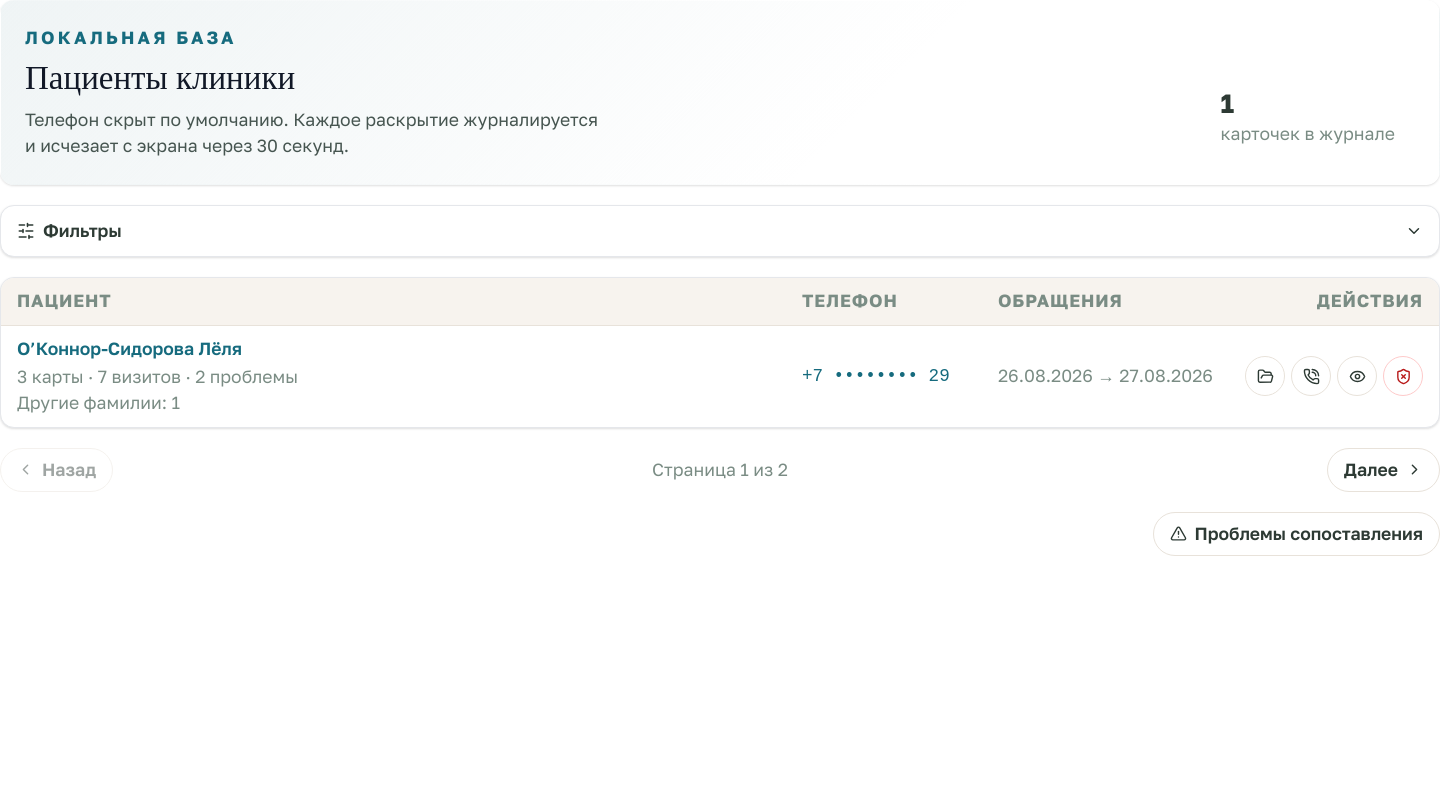
Test: Patients admin view › clears detail disclosure when the already-selected patient is selected again
Check: the link "О’Коннор-Сидорова Лёля" is shown, box [17, 338, 242, 359]
Click the button named "Открыть карточку О’Коннор-Сидорова Лёля": (1265, 376) [1245, 356, 1285, 396]
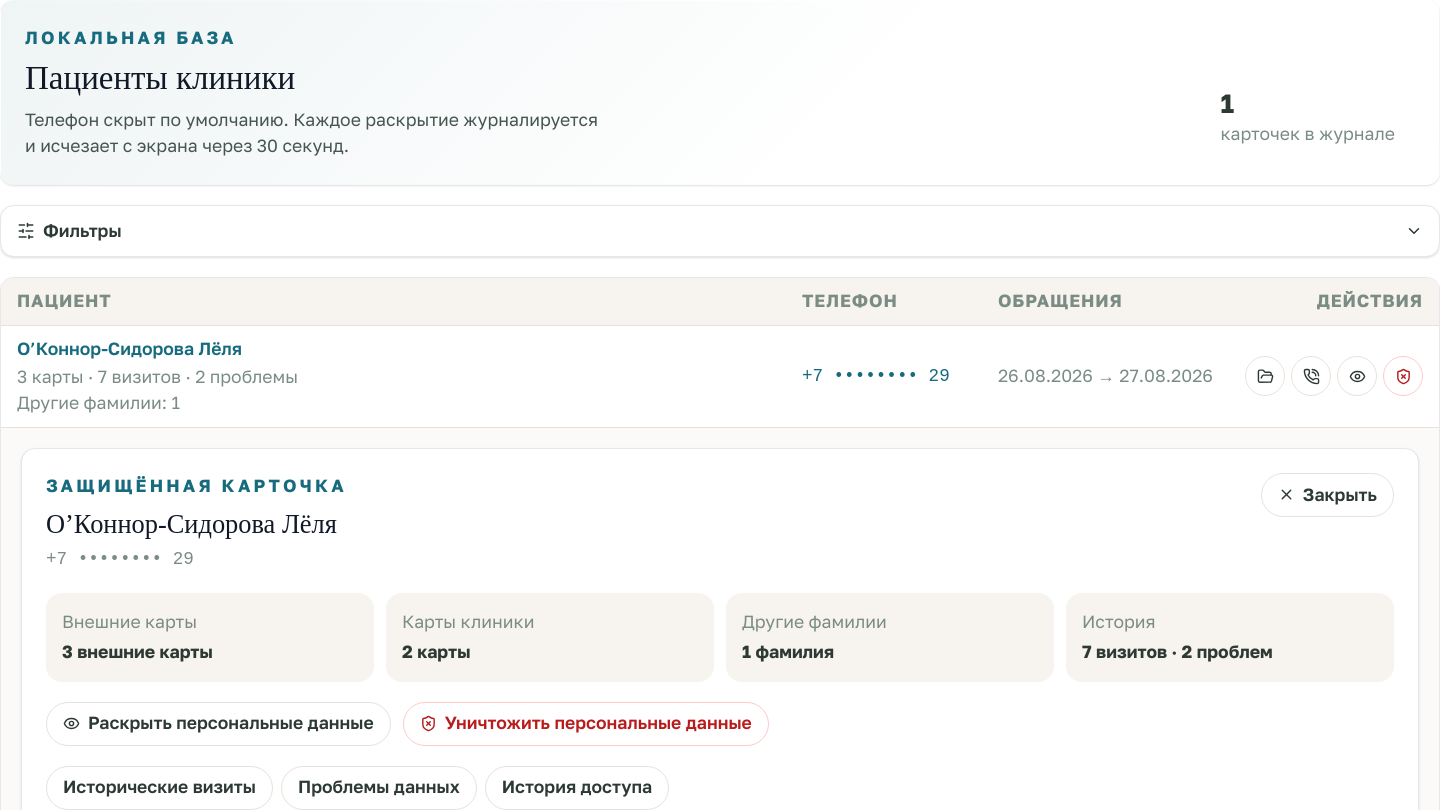
Click the button "Раскрыть персональные данные": (218, 724) [46, 702, 391, 746]
(page scrolled)
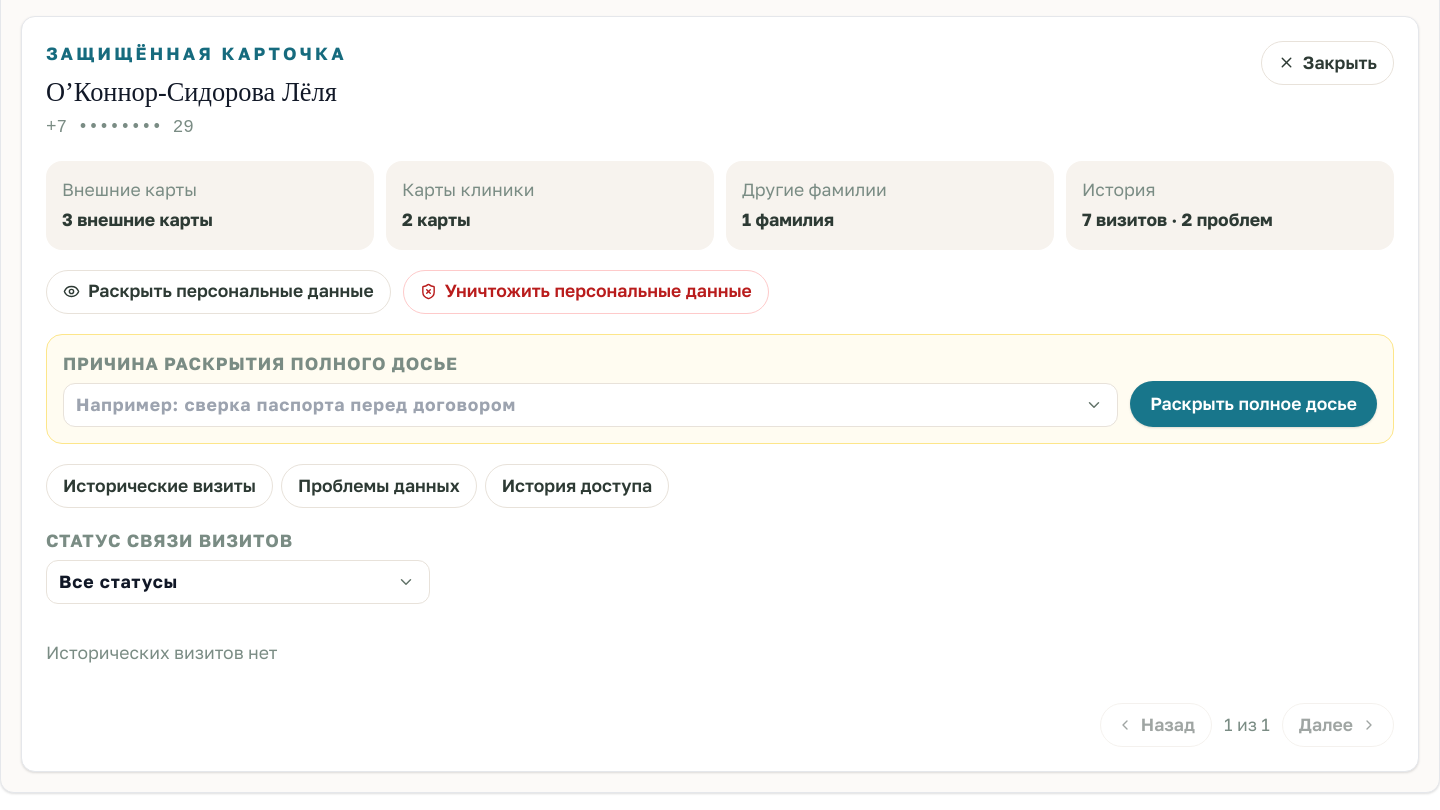
In the field labelled "Причина раскрытия полного досье": (591, 405) [63, 383, 1118, 427], type "Сверка паспорта"
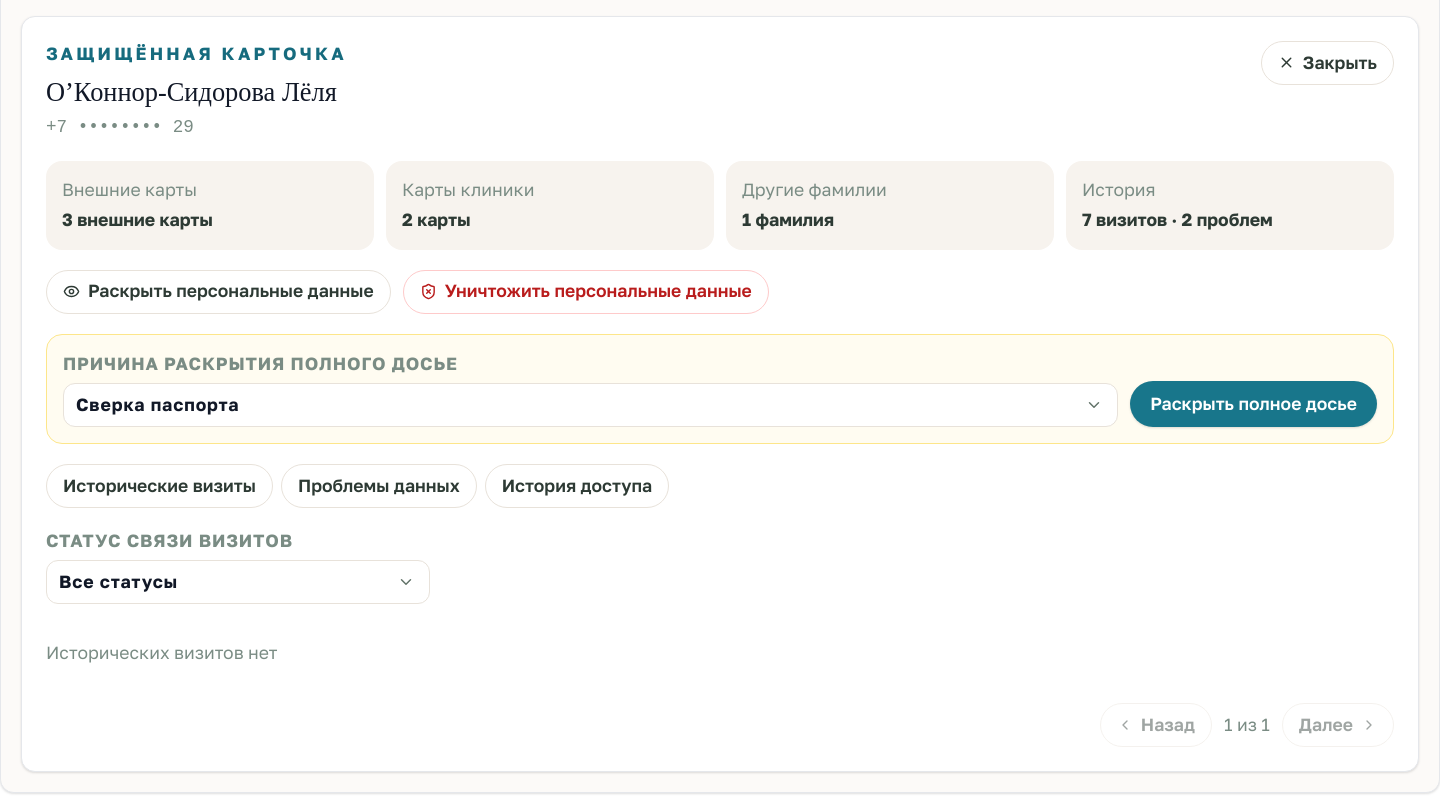
Click the button "Раскрыть полное досье": (1254, 404) [1130, 381, 1377, 427]
(page scrolled)
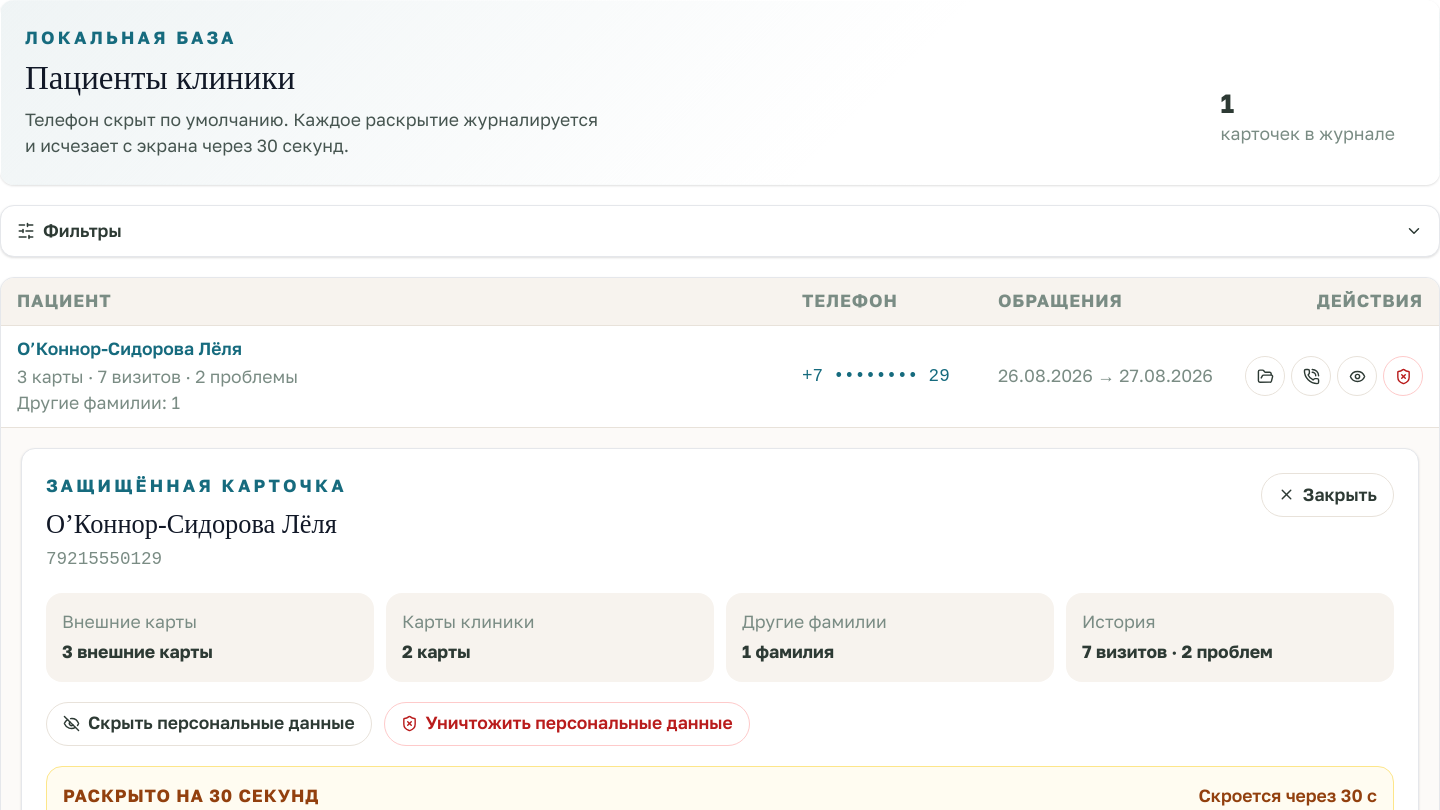
Click the button named "Открыть карточку О’Коннор-Сидорова Лёля": (1265, 376) [1245, 356, 1285, 396]
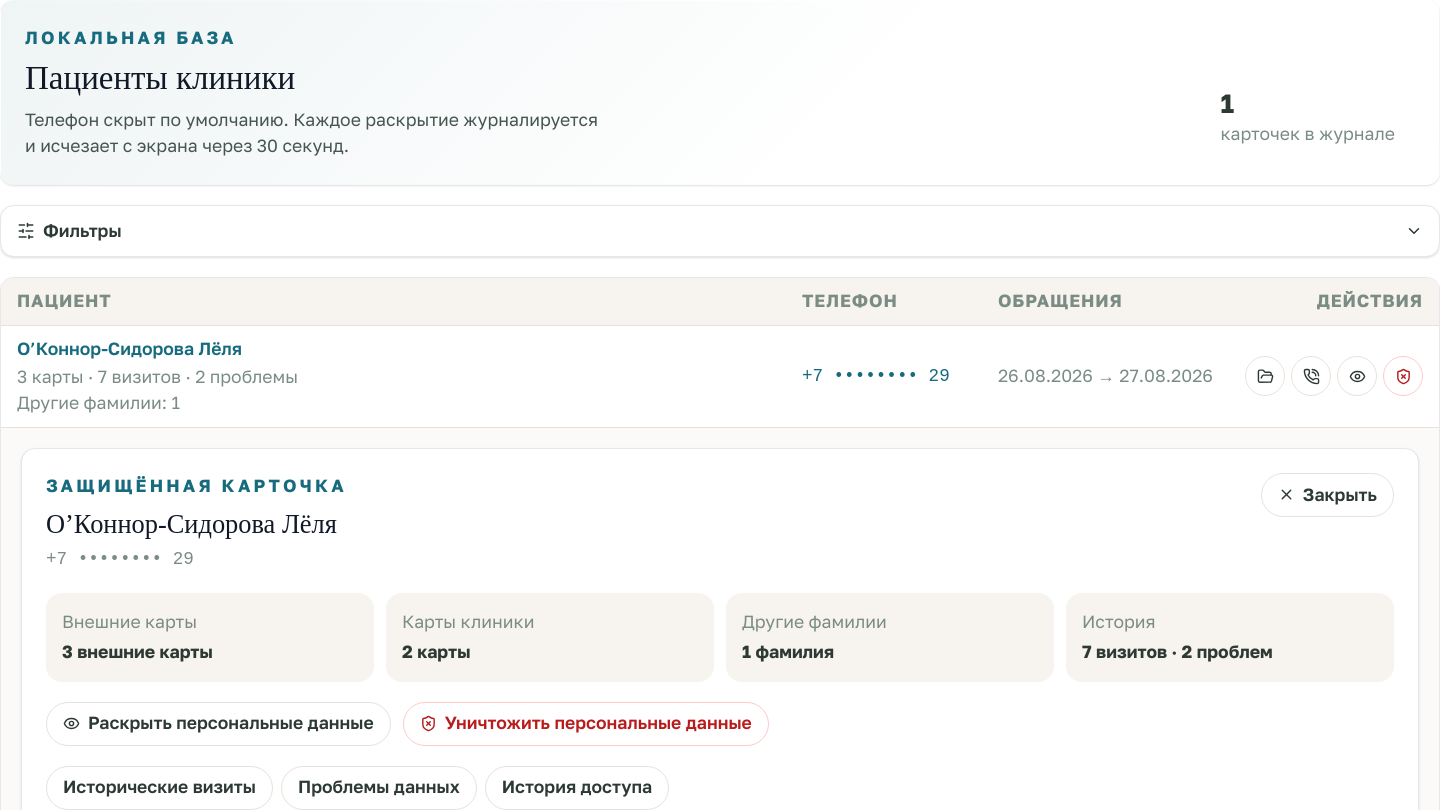
Check: the text "79215550129" is gone
